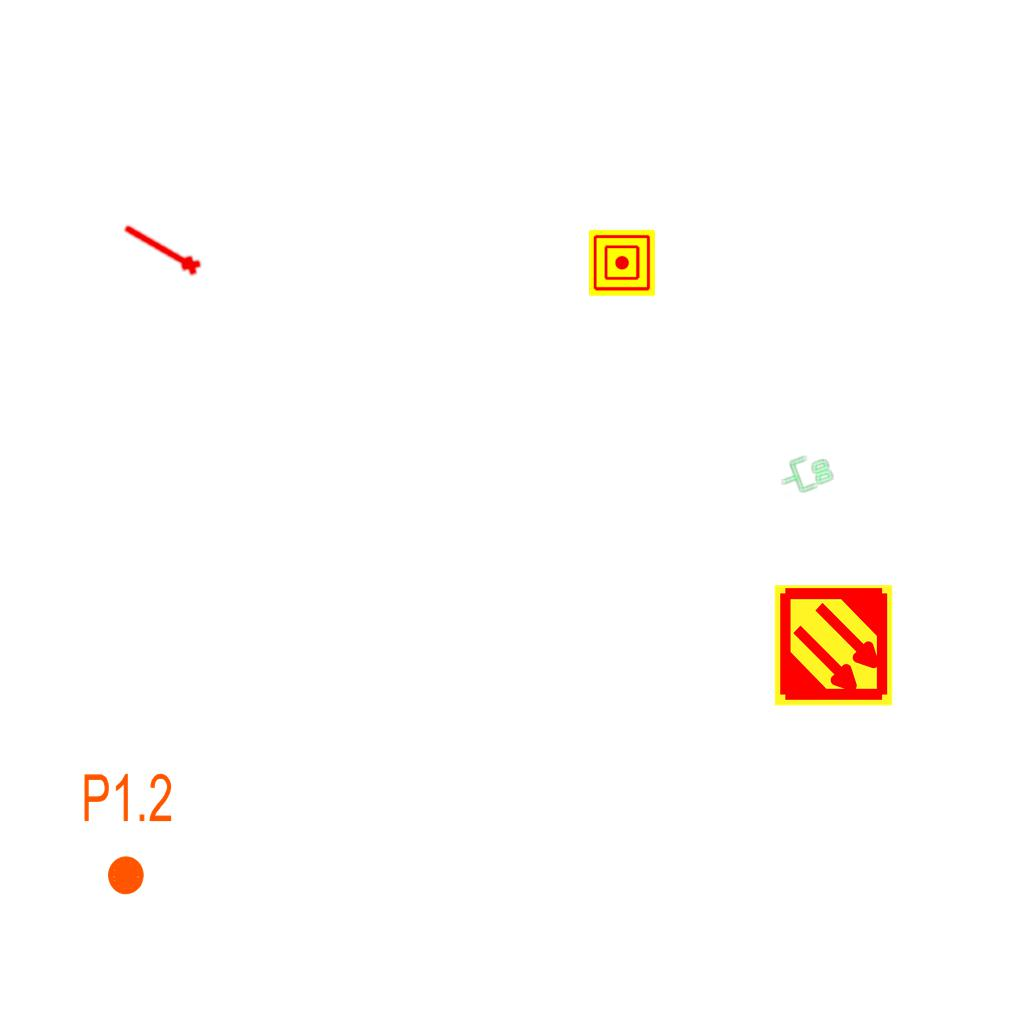ASR_Ansaugoeffnung: (117, 217, 205, 282)
ASR_Ansaugrauchmelder: (771, 583, 896, 708)
Datenanschluss_zweifach: (775, 448, 836, 500)
Downlight_LED_Einbauleuchten_Flur: (81, 770, 174, 898)
NAM-Nichtautomatischer_Melder: (589, 230, 655, 296)
